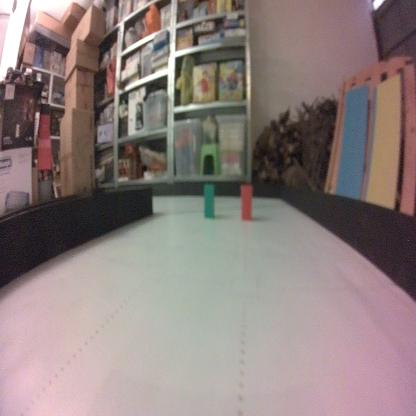green: (203, 179, 214, 220)
red: (239, 182, 255, 223)
